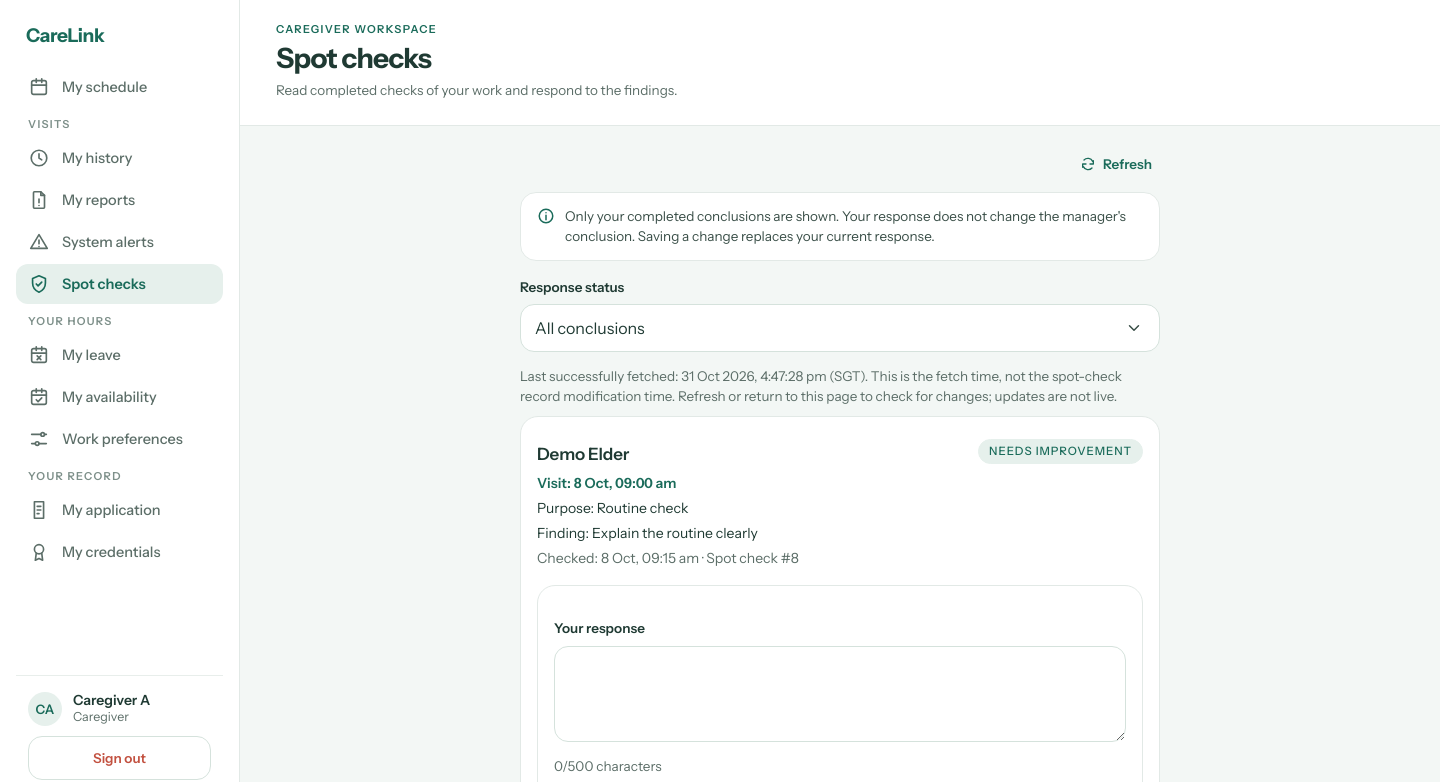
Test: caregiver spot-check conclusions › uses the own collection and sends only a trimmed response
The width and height of the screenshot is (1440, 782).
Expected: the heading "Demo Elder" is shown, [537,443,629,465]
In the text box labelled "Your response": (840, 694) [554,646,1126,742], type "  I will explain each step.  "
(page scrolled)
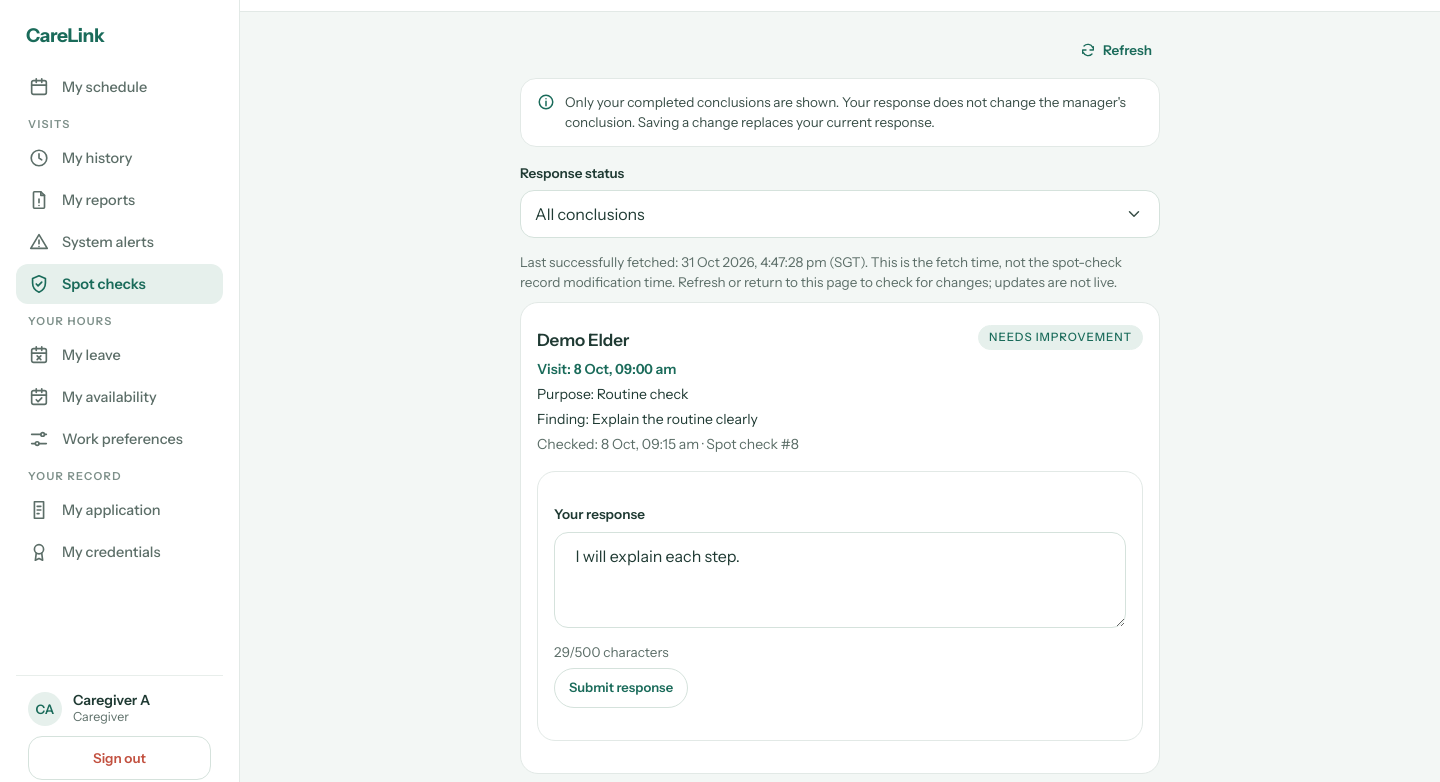
Click the button "Submit response": (621, 688) [554,668,688,708]
(page scrolled)
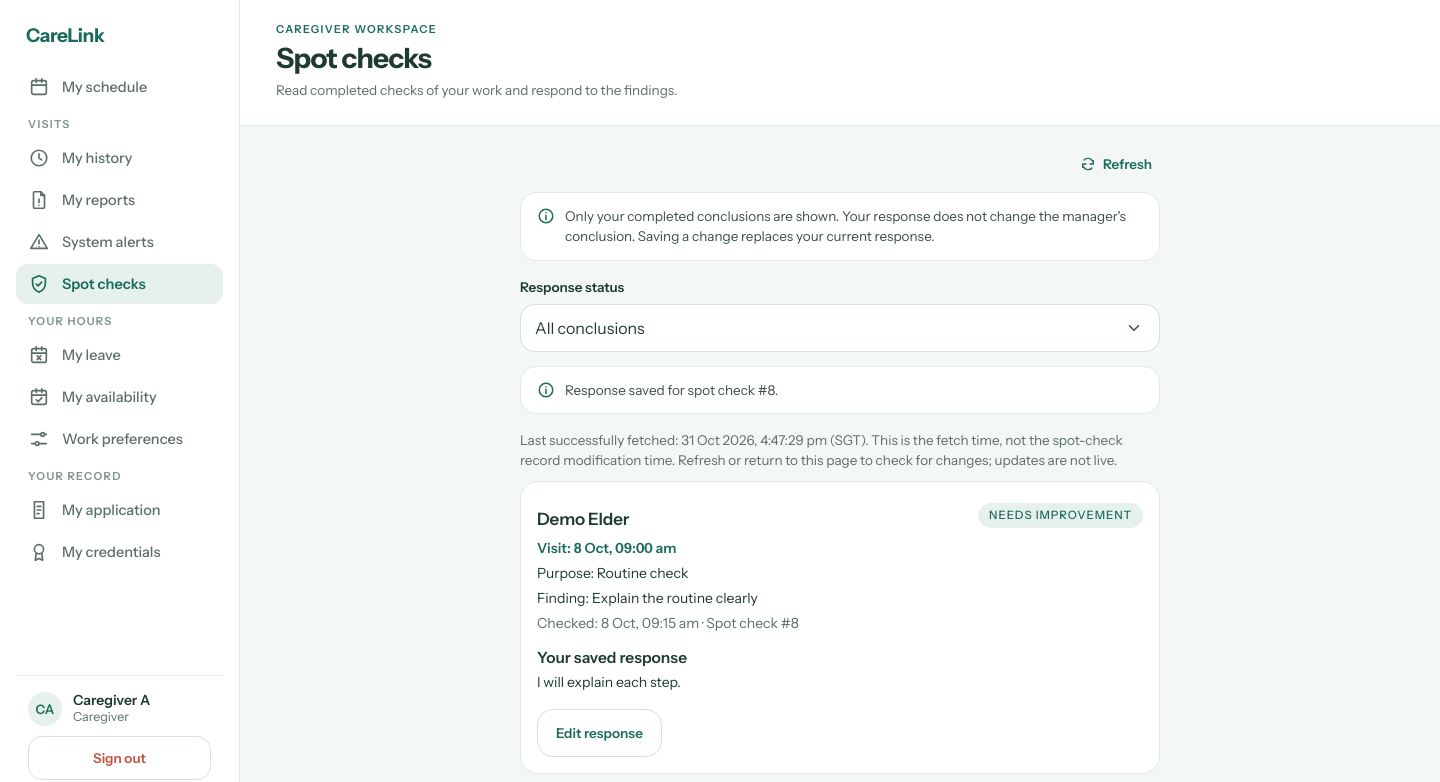
Expected: the text "Needs improvement" is shown, [978,503,1143,528]
Now the text "I will explain each step." is shown, box [537,673,681,691]
